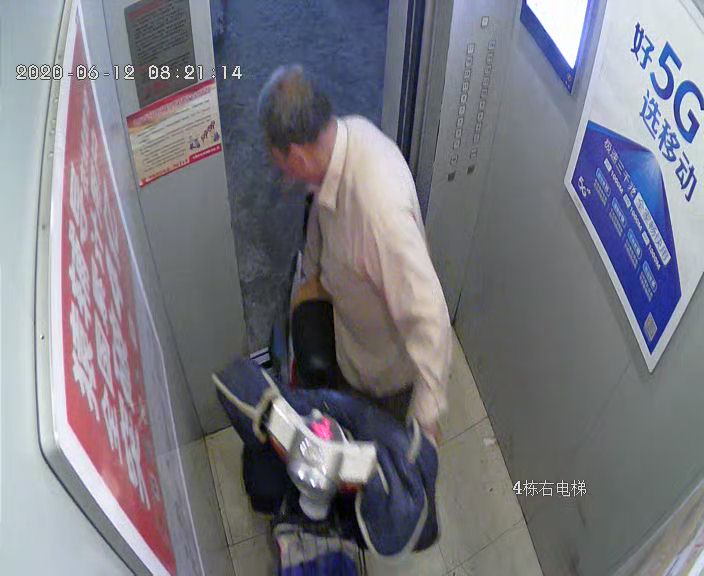Electric-bicycle: (216, 189, 442, 570)
